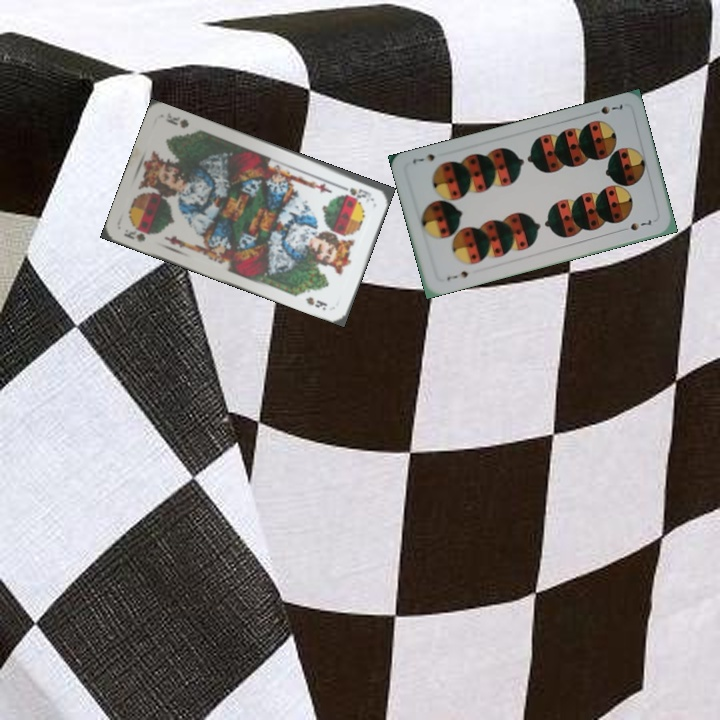S7: (596, 100, 625, 117), (443, 267, 471, 283)
SK: (335, 181, 374, 203), (119, 225, 153, 245)
